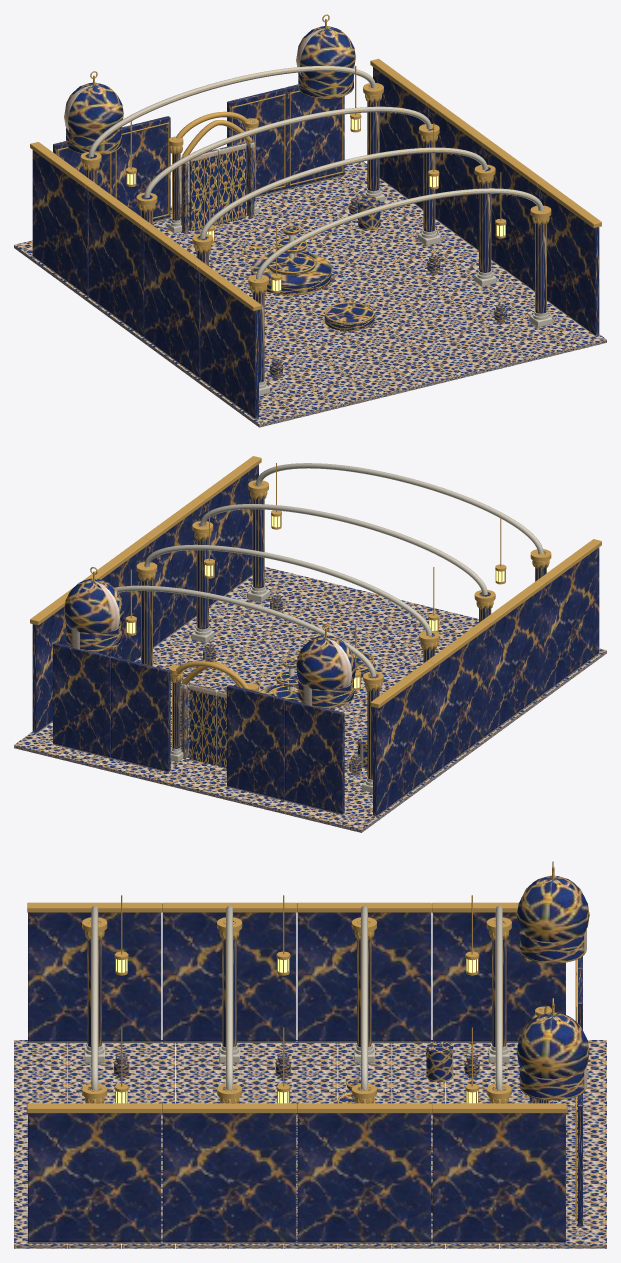
The model's file is room-5.glb.
3 views of the same model, one above another, from view 1: azimuth 30°, elevation 25°; view 2: azimuth 150°, elevation 25°; view 3: azimuth 270°, elevation 25° (orthographic). The views are drawn at different scales.
Visible parts, largest first — view 1: Architecture Architectural stone, Architecture Floor tile, Architecture Antique gilt, Architecture Decorative ceramic, Architecture Warm cut stone, Carved final door, Carved final door.003; view 2: Architecture Architectural stone, Architecture Floor tile, Architecture Antique gilt, Architecture Decorative ceramic, Architecture Warm cut stone, Carved final door.003, Carved final door, Architecture Warm luminous glass; view 3: Architecture Architectural stone, Architecture Floor tile, Architecture Antique gilt, Architecture Decorative ceramic, Architecture Warm cut stone, Architecture Warm luminous glass.
Part boxes in pixels (x1,y1,x2,y2): Architecture Architectural stone: (32,67,599,419); Architecture Floor tile: (14,161,606,427); Architecture Antique gilt: (30,14,601,380); Architecture Decorative ceramic: (64,26,507,378); Architecture Warm cut stone: (88,66,552,395); Carved final door: (189,149,218,231); Carved final door.003: (217,142,246,224); Architecture Architectural stone: (32,464,599,816); Architecture Floor tile: (14,567,606,832); Architecture Antique gilt: (30,456,601,778); Architecture Decorative ceramic: (64,578,374,775); Architecture Warm cut stone: (114,463,543,792); Carved final door.003: (189,683,218,765); Carved final door: (217,690,226,768); Architecture Warm luminous glass: (127,516,504,688); Architecture Architectural stone: (28,912,582,1243); Architecture Floor tile: (14,1040,606,1248); Architecture Antique gilt: (27,861,576,1221); Architecture Decorative ceramic: (114,875,589,1213); Architecture Warm cut stone: (84,905,509,1089); Architecture Warm luminous glass: (116,959,477,1103).
Bounding box in the file's own units: 18.05 × 8.85 × 21.99.
7 materials, 3 textured.
